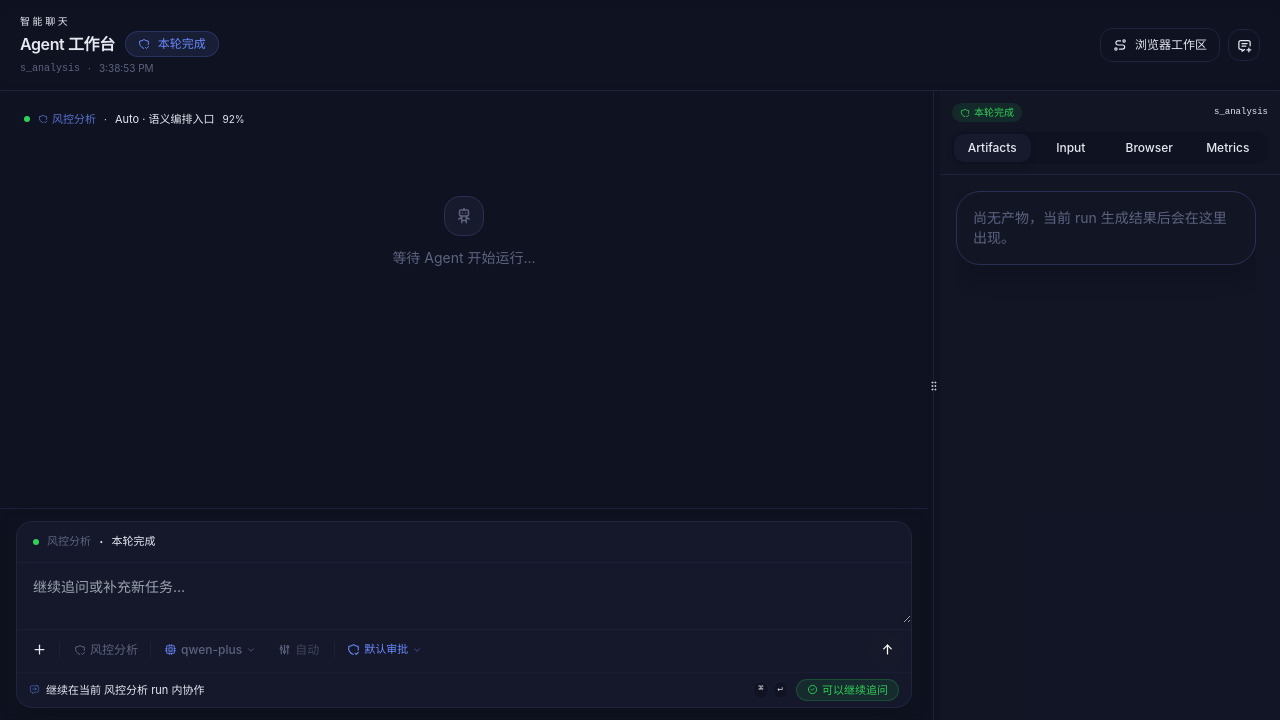
it: ChatPage › detects intent drift from the active Hermes capability instead of the stored general top-level kind
Type "你是什么模型？" into the text box with placeholder "继续追问或补充新任务…".
click(464, 592); type("你是什么模型？")  # box [17, 562, 911, 622]
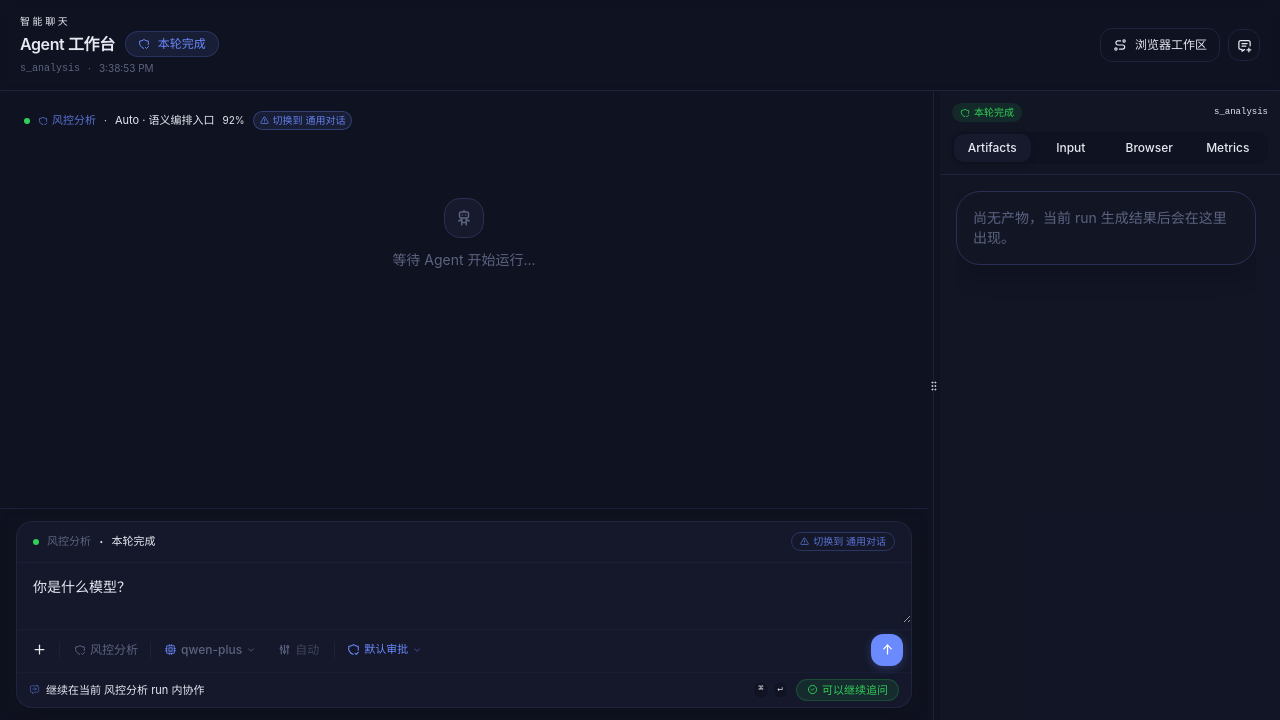
Expected: the button "切换到 通用对话" next to "92" is shown, [253, 111, 352, 130]
